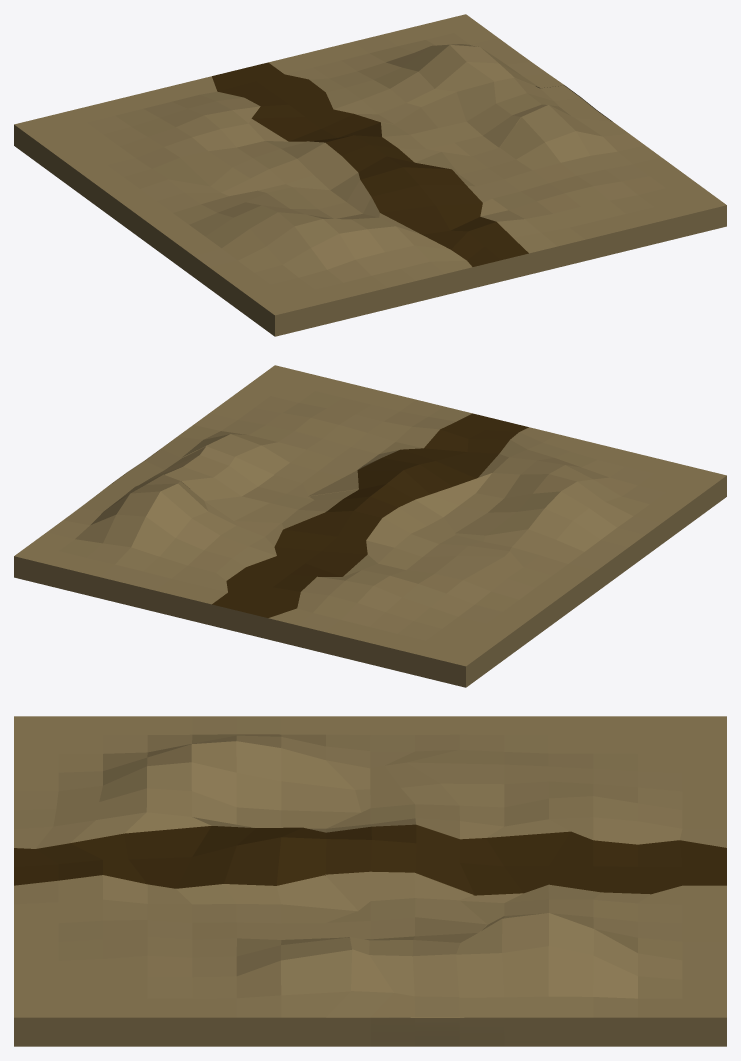
The model's file is Path14.fbx.
The picture shows the model from 3 angles, top to bottom: view 1: azimuth 30°, elevation 25°; view 2: azimuth 150°, elevation 25°; view 3: azimuth 270°, elevation 25°; orthographic projection. The views are drawn at different scales.
Visible parts, largest first — view 1: Cube.008, Cube.000; view 2: Cube.008, Cube.000; view 3: Cube.008, Cube.000.
Boxes of the visible parts, x1,y1,x2,y2 form: Cube.008: (14, 14, 726, 336); Cube.000: (381, 78, 610, 162); Cube.008: (14, 365, 726, 687); Cube.000: (112, 446, 358, 528); Cube.008: (14, 716, 726, 1046); Cube.000: (325, 871, 486, 1017).
Size of the model in its own units: 2062 by 253 by 2057.
